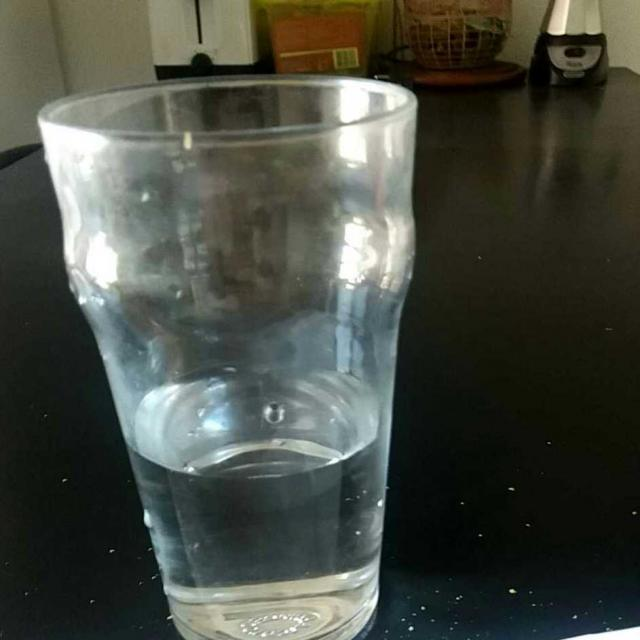water: (114, 376, 391, 629)
